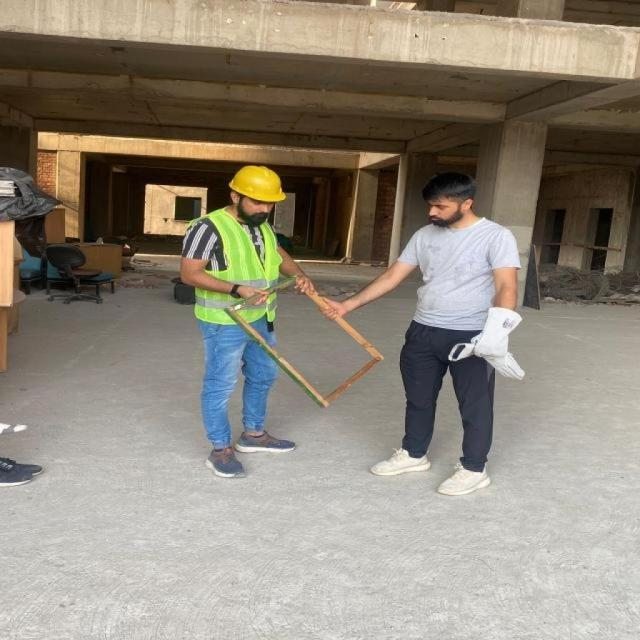Gloves-Detection: (452, 306, 528, 391)
